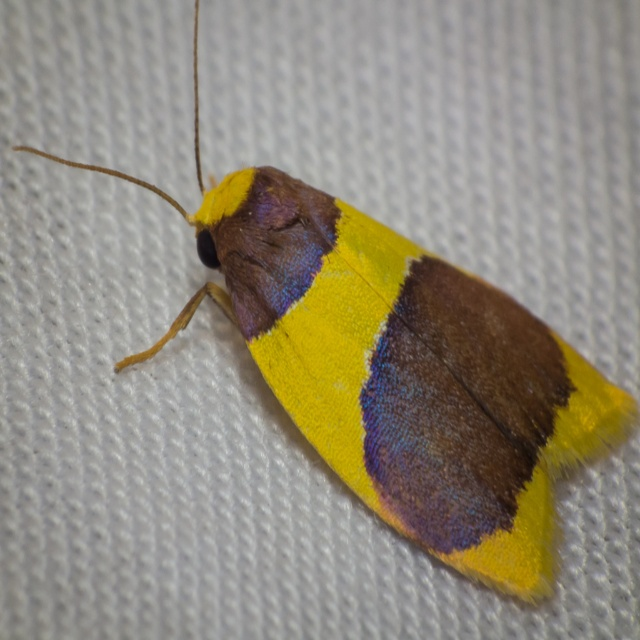Moths and butterflies: (9, 0, 639, 609)
